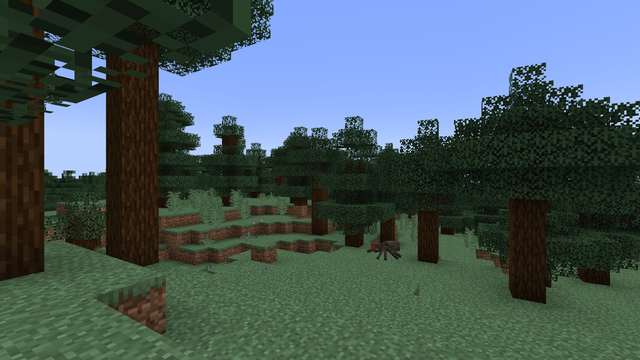araignees: (368, 237, 397, 260)
